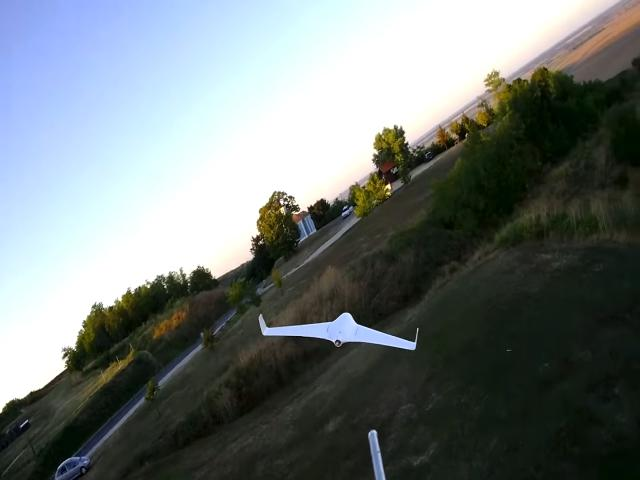plane: (258, 311, 418, 351)
